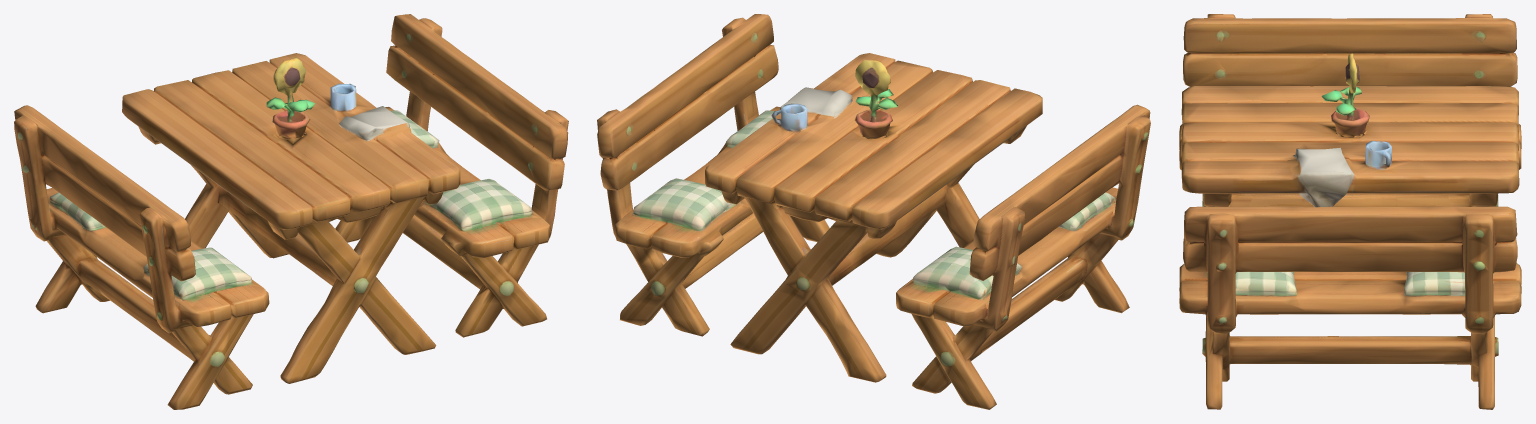
Rendered from picnic_bench.glb.
3 renders of one model, left to right at view 1: azimuth 30°, elevation 25°; view 2: azimuth 150°, elevation 25°; view 3: azimuth 270°, elevation 25°, orthographic. The views are drawn at different scales.
Parts seen in each view (by area): view 1: Mesh_0; view 2: Mesh_0; view 3: Mesh_0.
Part boxes in pixels (x1,y1,x2,y2): Mesh_0: (14,14,568,409); Mesh_0: (597,14,1150,409); Mesh_0: (1179,14,1521,409).
Size of the model in its own units: 1.91 by 1.11 by 1.32.
1 material, 1 textured.
